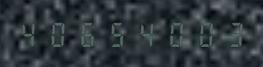five: (101, 20, 128, 47)
four: (17, 20, 44, 47), (129, 20, 156, 47)
six: (73, 20, 100, 47)
three: (213, 20, 240, 47)
zero: (45, 20, 72, 47), (157, 20, 184, 47), (185, 20, 212, 47)
